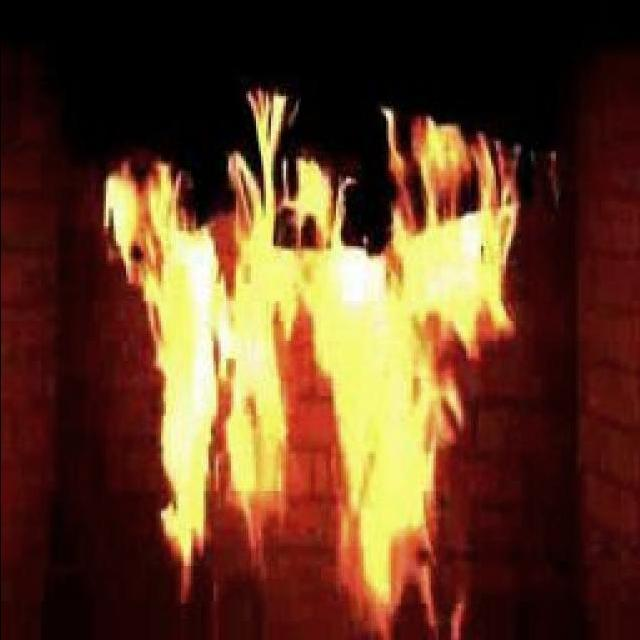Fire: (108, 178, 490, 586)
